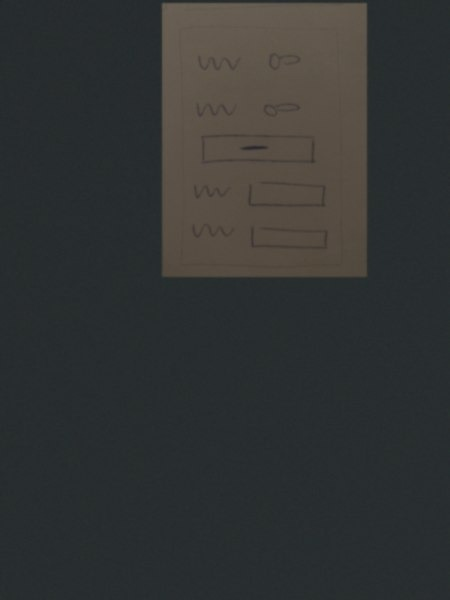button: (198, 131, 319, 167)
switch: (259, 96, 304, 119), (263, 49, 305, 72)
text: (192, 49, 247, 75), (191, 97, 240, 122), (189, 217, 237, 241), (190, 179, 234, 199)
text_input: (246, 177, 332, 214), (247, 222, 334, 255)
